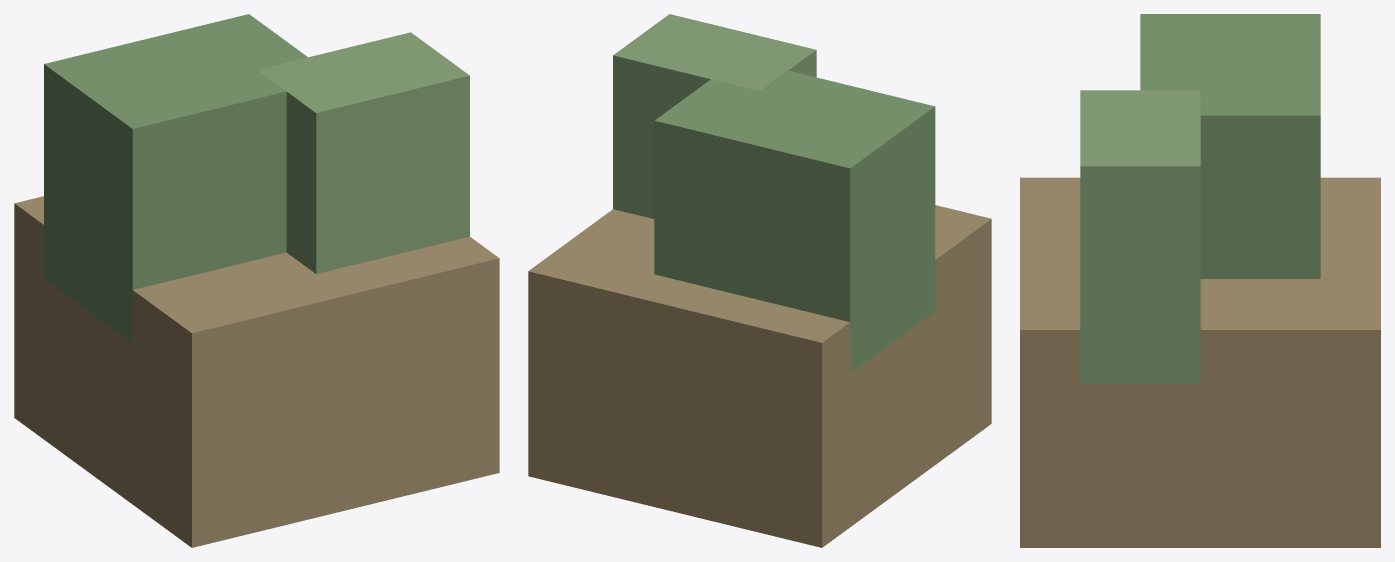
File: maceta_grande_bronce_01.glb
3 views of the same model, side by side, from view 1: azimuth 30°, elevation 25°; view 2: azimuth 150°, elevation 25°; view 3: azimuth 270°, elevation 25° (orthographic). The views are drawn at different scales.
Visible parts, largest first — view 1: maceta_grande_bronce; view 2: maceta_grande_bronce; view 3: maceta_grande_bronce.
Part boxes in pixels (x1,y1,x2,y2): maceta_grande_bronce: (14,14,499,547); maceta_grande_bronce: (528,14,991,547); maceta_grande_bronce: (1020,14,1380,547).
Bounding box in the file's own units: 0.6 × 0.7 × 0.6.
